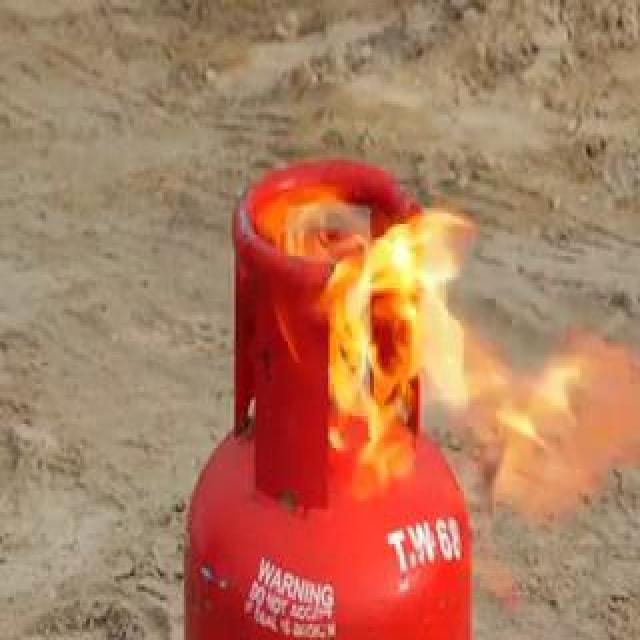Fire: (241, 128, 591, 501)
